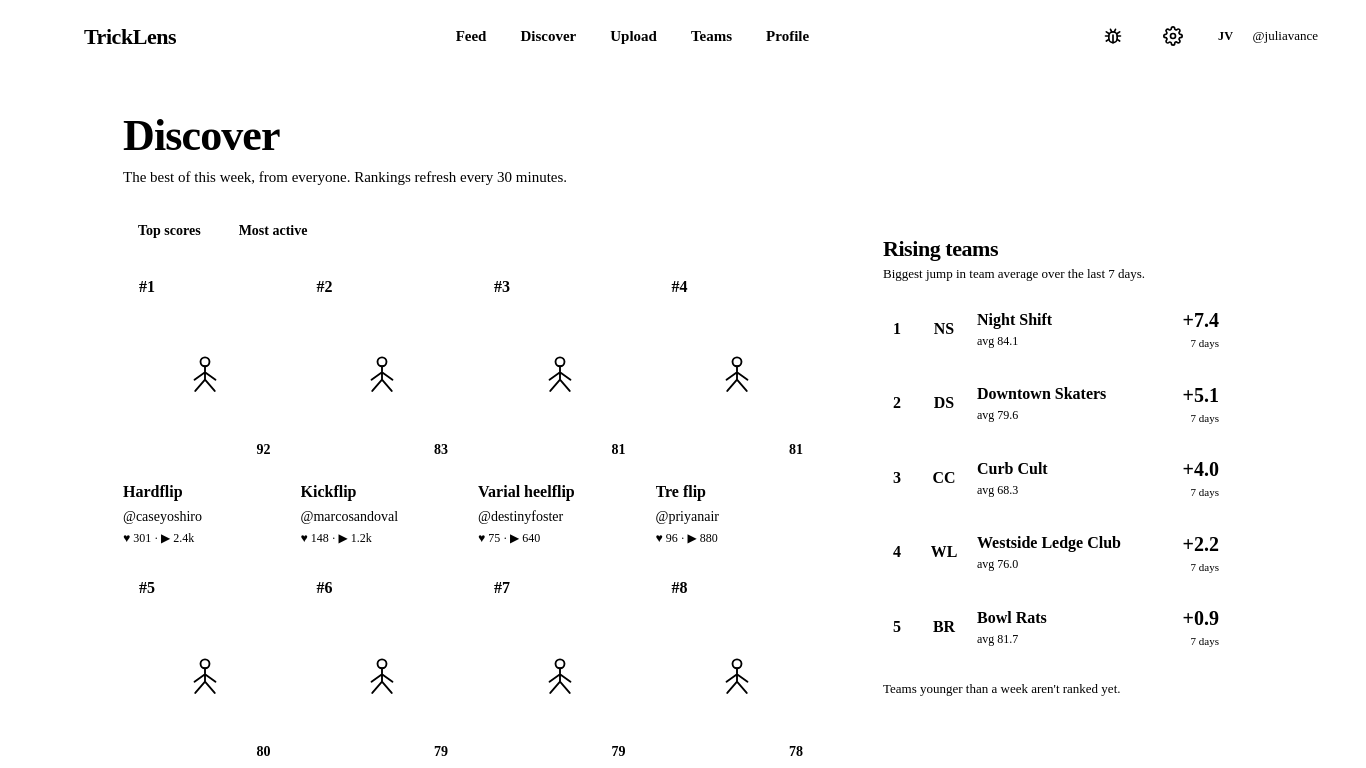
discover › re-ranks by activity, which includes uncounted clips
Expected: the link "#1 92 Hardflip @caseyoshiro ♥ 301 · ▶ 2.4k" is shown, [123,266,286,547]
What coordinates should you click on to do the following:
click the radio button labelled "Most active"
I would click on:
 (273, 230)
Its box is [239,223,307,238].
(page scrolled)
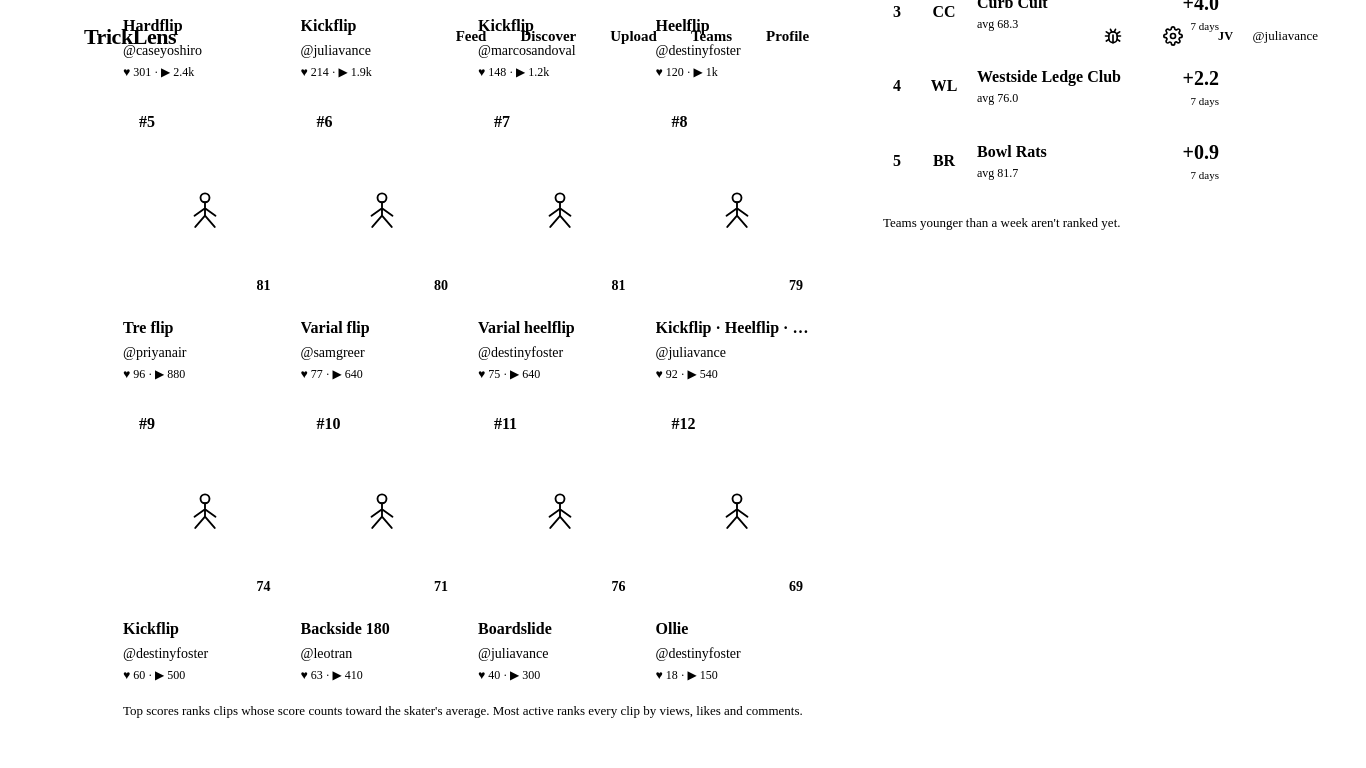
Expected: the link "#11 76 Boardslide @juliavance ♥ 40 · ▶ 300" is shown, [478,403,642,684]
